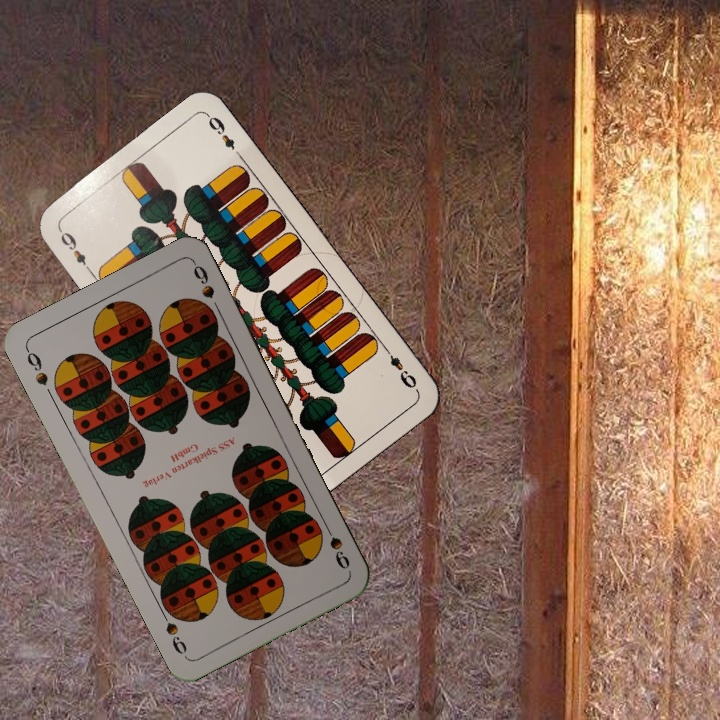E9: (55, 225, 96, 276), (380, 342, 420, 391)
S9: (319, 518, 353, 573), (22, 344, 51, 389)
